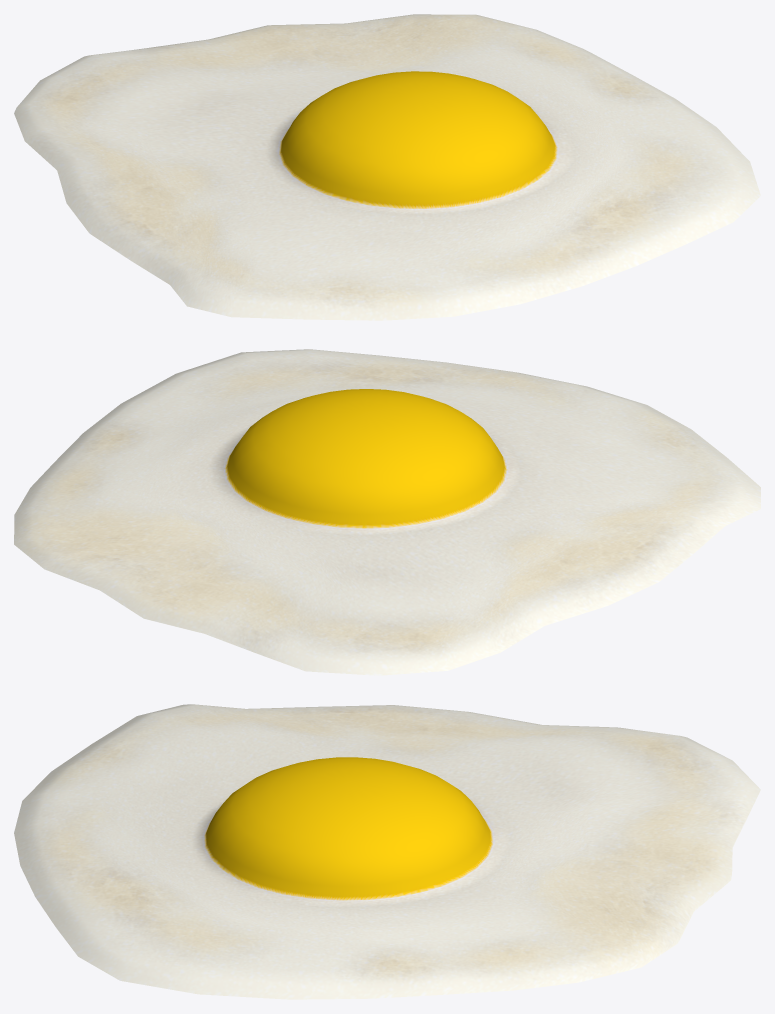
Rendered from Egg_Cracked_8.obj.
3 views of the same model, one above another, from view 1: azimuth 30°, elevation 25°; view 2: azimuth 150°, elevation 25°; view 3: azimuth 270°, elevation 25° (orthographic). The views are drawn at different scales.
Visible parts, largest first — view 1: fried_egg_8; view 2: fried_egg_8; view 3: fried_egg_8.
Boxes of the visible parts, bbox=[...] form: fried_egg_8: bbox=[14, 14, 760, 320]; fried_egg_8: bbox=[14, 349, 760, 675]; fried_egg_8: bbox=[14, 704, 760, 999].
Bounding box in the file's own units: 0.1098 × 0.014 × 0.1175.
